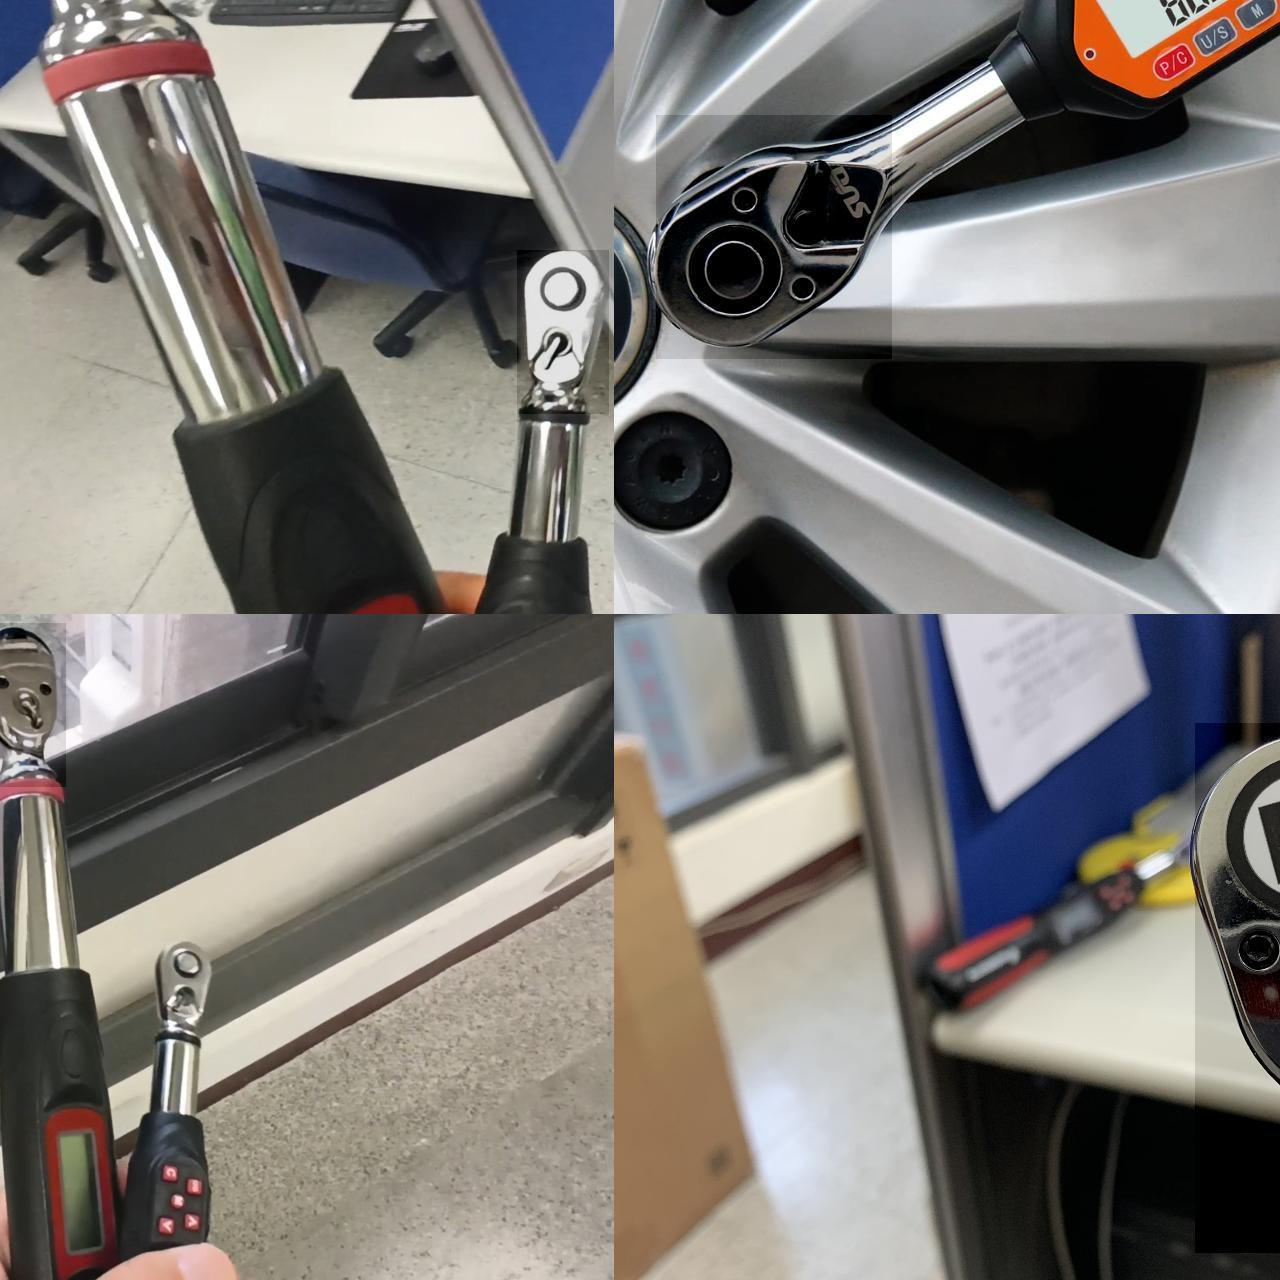Tool: (655, 114, 891, 358), (1194, 722, 1280, 1252), (516, 248, 608, 413), (0, 622, 64, 787), (150, 935, 211, 1030)
